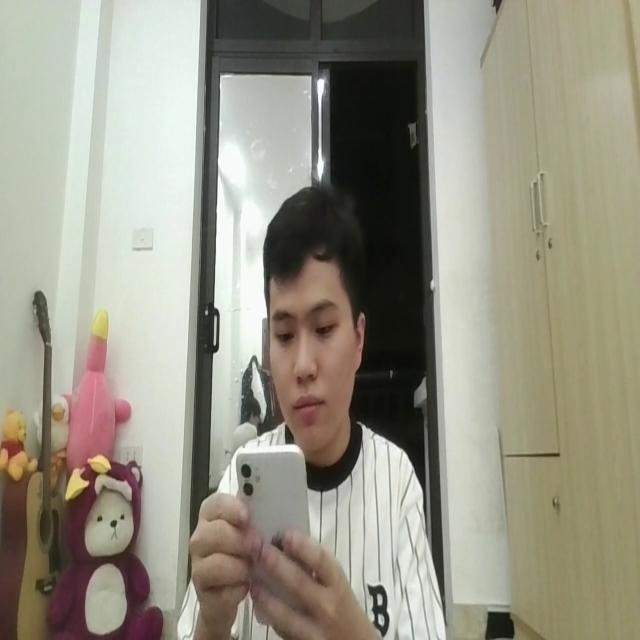phone: (230, 442, 318, 620)
student: (177, 179, 448, 640)
